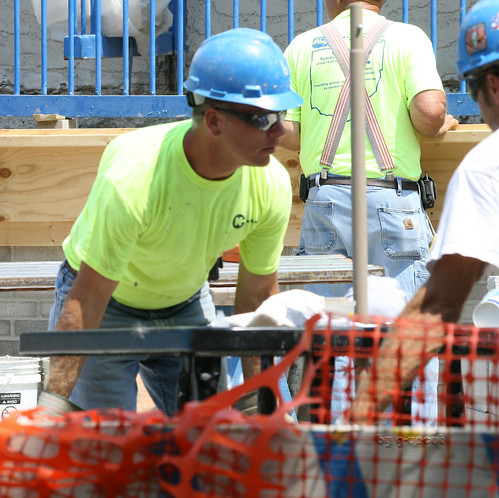person hardhat: (25, 31, 313, 423), (408, 1, 499, 458)
